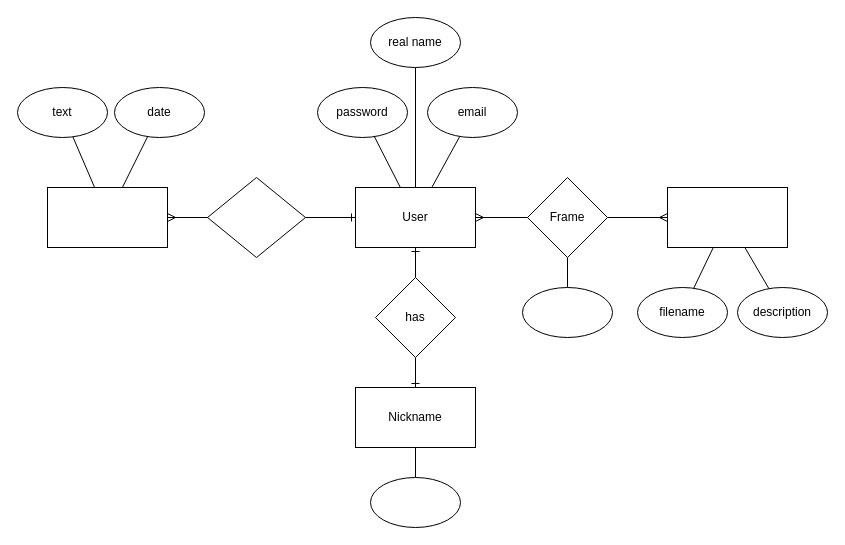
Some shapes in this 845 by 545 pixel diagram are drawn without their labels. The shapes that lost their labels are listed below. From the top down, each one's centre as x and y in pixels, then its label:
(107,217): Comment
(256,217): write
(727,217): Photo
(567,312): coordinates
(415,502): name
